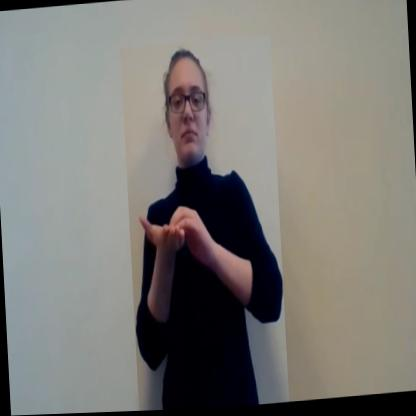ExcuseMe: (120, 36, 289, 413)
